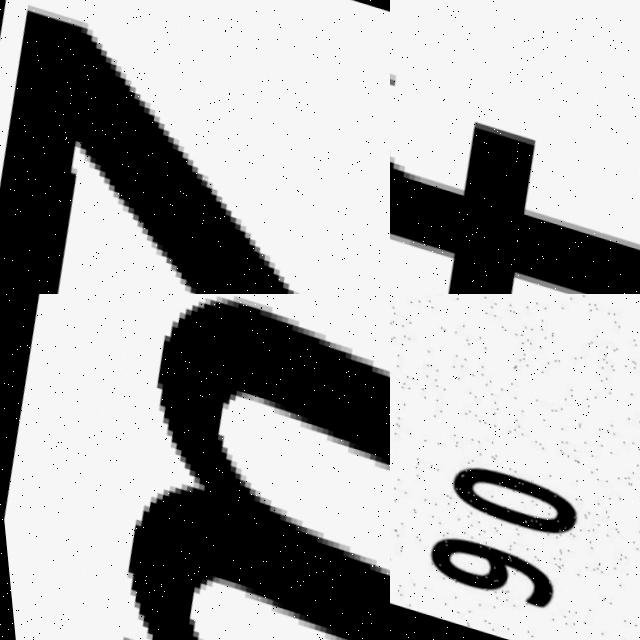0: (403, 422, 590, 566)
9: (390, 492, 573, 640)
F: (390, 36, 640, 294)
M: (31, 294, 390, 640)
Z: (0, 0, 390, 294)
